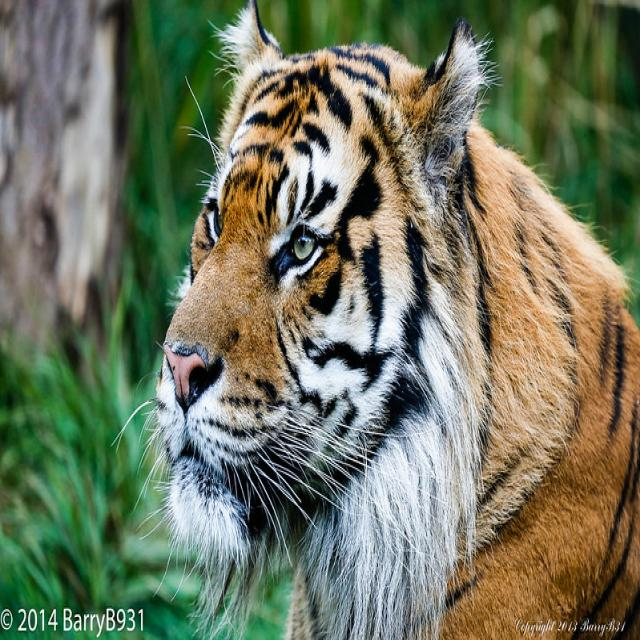Tiger: (126, 0, 637, 621)
